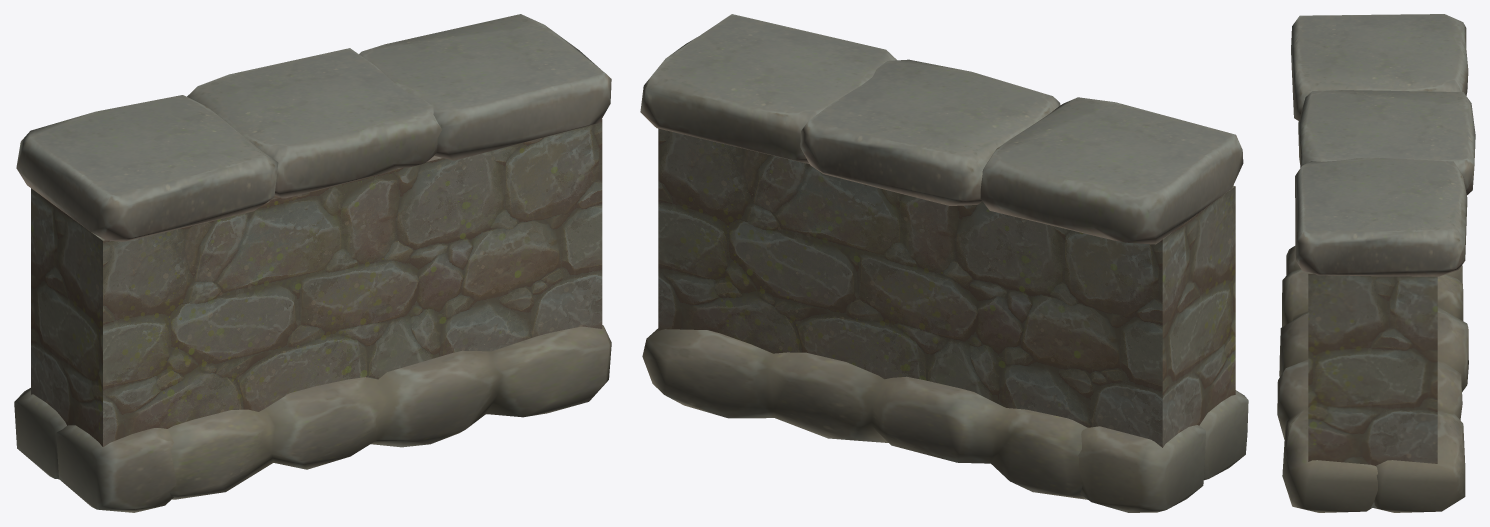
Rendered from SM_FW01_Ruins_Int_Trim_C_2m_01.fbx.
The picture shows the model from 3 angles, left to right: view 1: azimuth 30°, elevation 25°; view 2: azimuth 150°, elevation 25°; view 3: azimuth 270°, elevation 25°; orthographic projection. The views are drawn at different scales.
Parts seen in each view (by area): view 1: SM_FW01_Ruins_Int_Trim_C_2m_01_LOD0, SM_FW01_Ruins_Int_Trim_C_2m_01; view 2: SM_FW01_Ruins_Int_Trim_C_2m_01_LOD0, SM_FW01_Ruins_Int_Trim_C_2m_01; view 3: SM_FW01_Ruins_Int_Trim_C_2m_01_LOD0, SM_FW01_Ruins_Int_Trim_C_2m_01.
Boxes of the visible parts, x1=… form: SM_FW01_Ruins_Int_Trim_C_2m_01_LOD0: x1=14, y1=14, x2=611, y2=512; SM_FW01_Ruins_Int_Trim_C_2m_01: x1=31, y1=119, x2=602, y2=446; SM_FW01_Ruins_Int_Trim_C_2m_01_LOD0: x1=640, y1=14, x2=1248, y2=512; SM_FW01_Ruins_Int_Trim_C_2m_01: x1=658, y1=128, x2=1235, y2=447; SM_FW01_Ruins_Int_Trim_C_2m_01_LOD0: x1=1277, y1=14, x2=1475, y2=512; SM_FW01_Ruins_Int_Trim_C_2m_01: x1=1308, y1=272, x2=1437, y2=507.
Size of what is drawn, in the model's own units: 2.08 by 1.25 by 0.7673.
